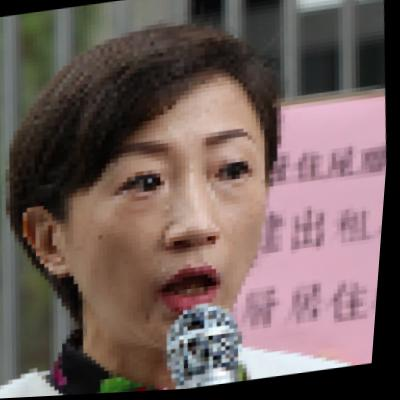surprise: (50, 63, 285, 350)
